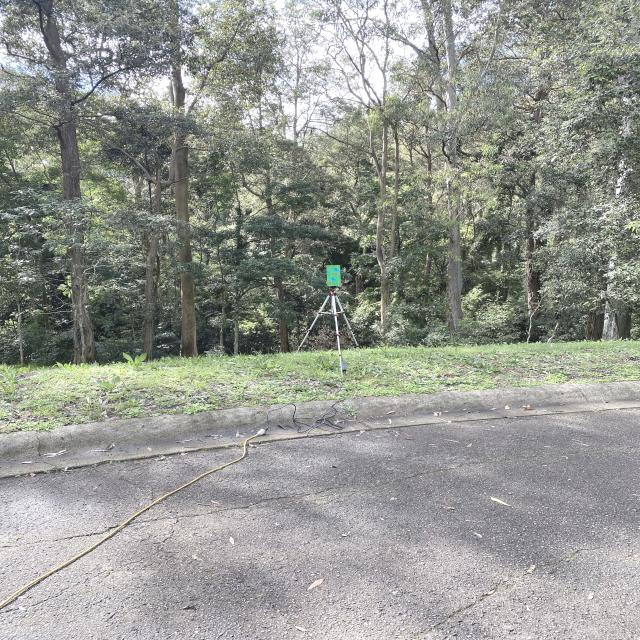matrix: (324, 265, 342, 287)
